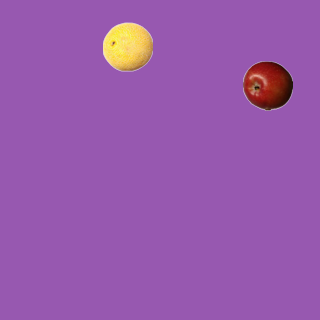Apple Braeburn: (242, 60, 292, 110)
Cantaloupe 1: (102, 21, 152, 71)
